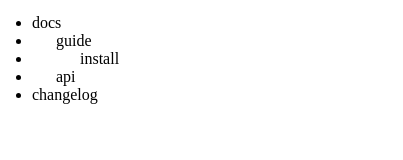
Test: TreeDropIndicator › renders nothing where there is no legal position
Press the mouse on the button "changelog" at [65, 94], box [32,86,98,103]
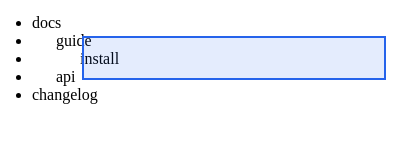
Expected: the element with test id "indicator" is shown, [84,38,384,78]
